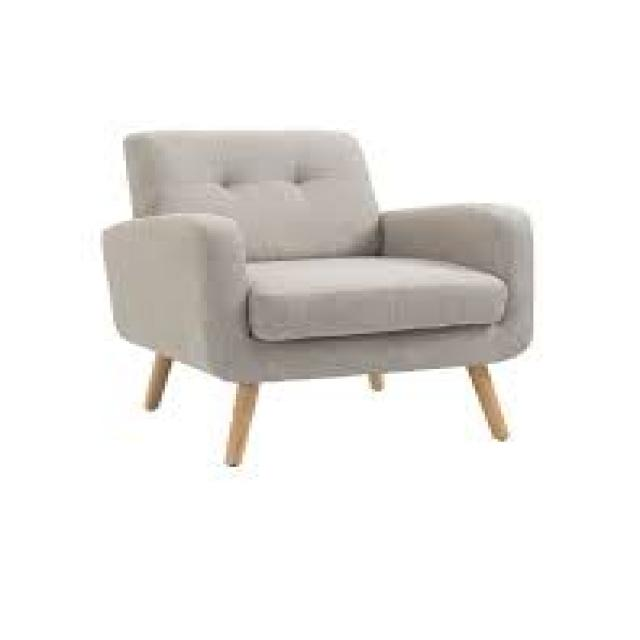chair: (72, 62, 551, 526)
